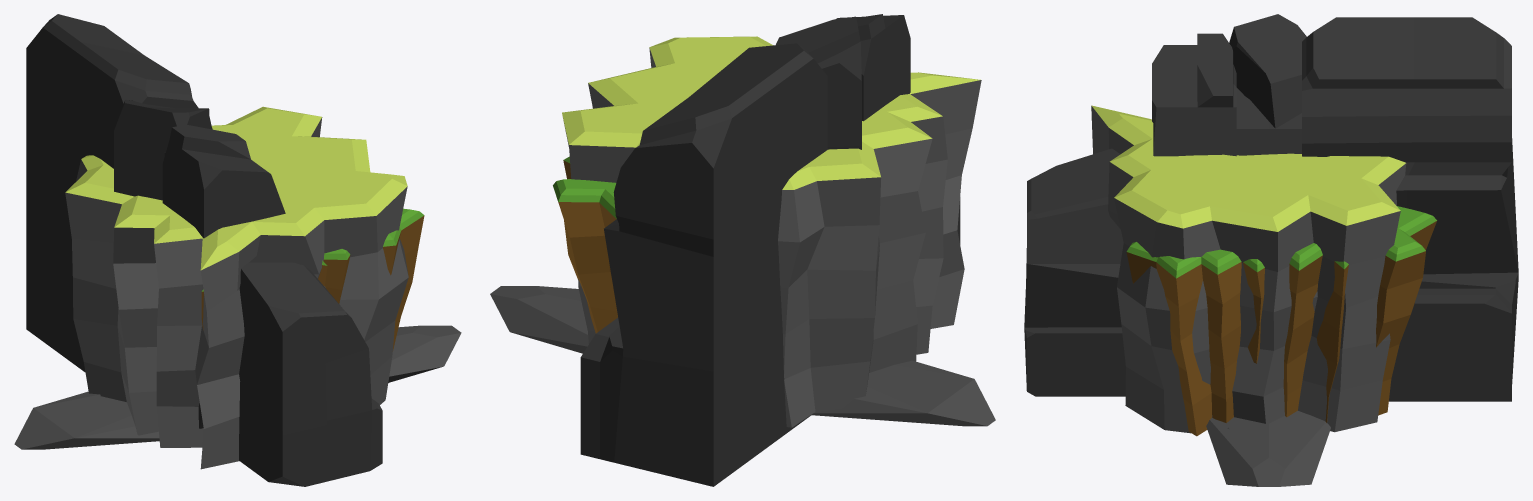
The model's file is Props_Rocs.fbx.
3 renders of one model, left to right at view 1: azimuth 30°, elevation 25°; view 2: azimuth 150°, elevation 25°; view 3: azimuth 270°, elevation 25°, orthographic. The views are drawn at different scales.
Parts seen in each view (by area): view 1: rock_002_LOD0, rock_006_LOD0, rock_004_LOD0, rock_005_LOD0; view 2: rock_002_LOD0, rock_006_LOD0, rock_004_LOD0, rock_005_LOD0; view 3: rock_002_LOD0, rock_006_LOD0, rock_005_LOD0, rock_004_LOD0.
Boxes of the visible parts, x1,y1,x2,y2 form: rock_002_LOD0: (26,14,382,486); rock_006_LOD0: (65,106,408,469); rock_004_LOD0: (14,325,461,449); rock_005_LOD0: (201,208,424,351); rock_002_LOD0: (580,14,960,486); rock_006_LOD0: (562,36,981,427); rock_004_LOD0: (490,286,995,426); rock_005_LOD0: (553,156,617,333); rock_002_LOD0: (1024,14,1518,401); rock_006_LOD0: (1091,105,1406,433); rock_005_LOD0: (1126,206,1437,436); rock_004_LOD0: (1206,411,1330,486).
Bounding box in the file's own units: 954 × 1000 × 730.
